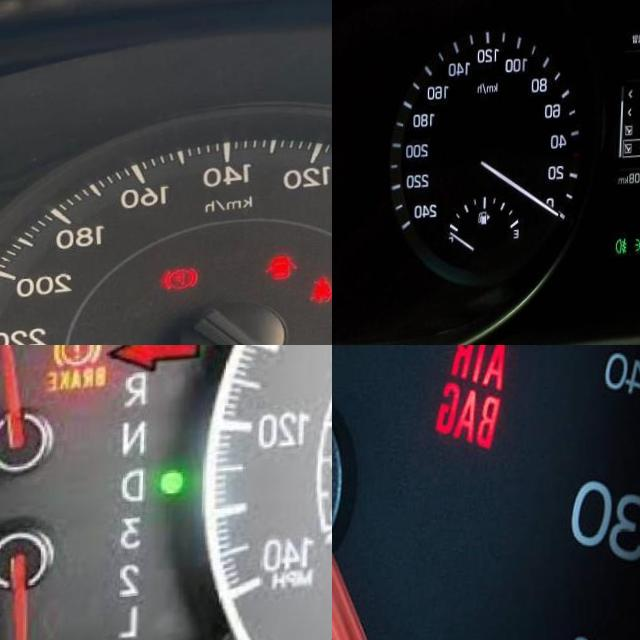FrontFogLight: (617, 242, 632, 261)
Seat Belt: (312, 281, 332, 314)
